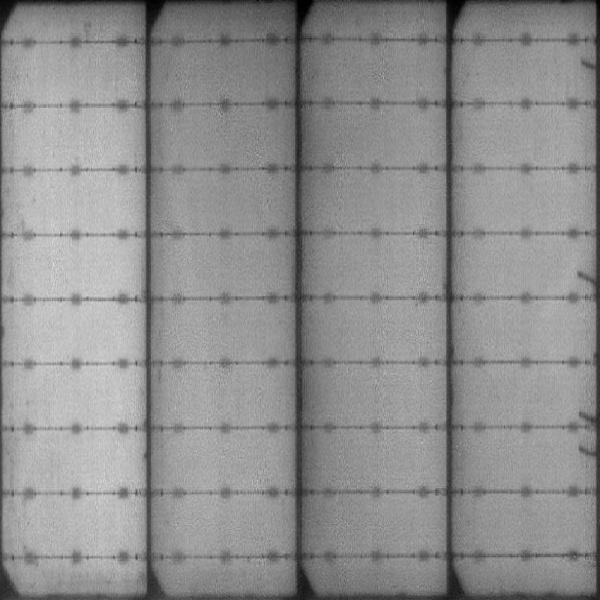scratch: (574, 435, 596, 458), (576, 269, 597, 291), (576, 409, 597, 425)
